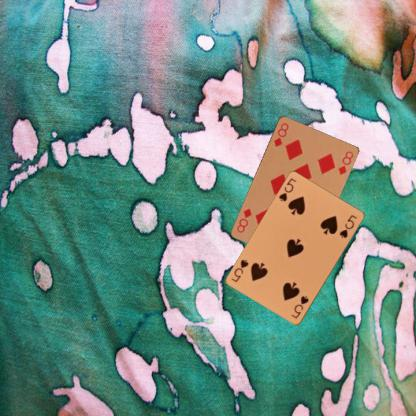5s: (276, 176, 298, 203), (289, 294, 310, 320)
8d: (270, 120, 290, 148)
